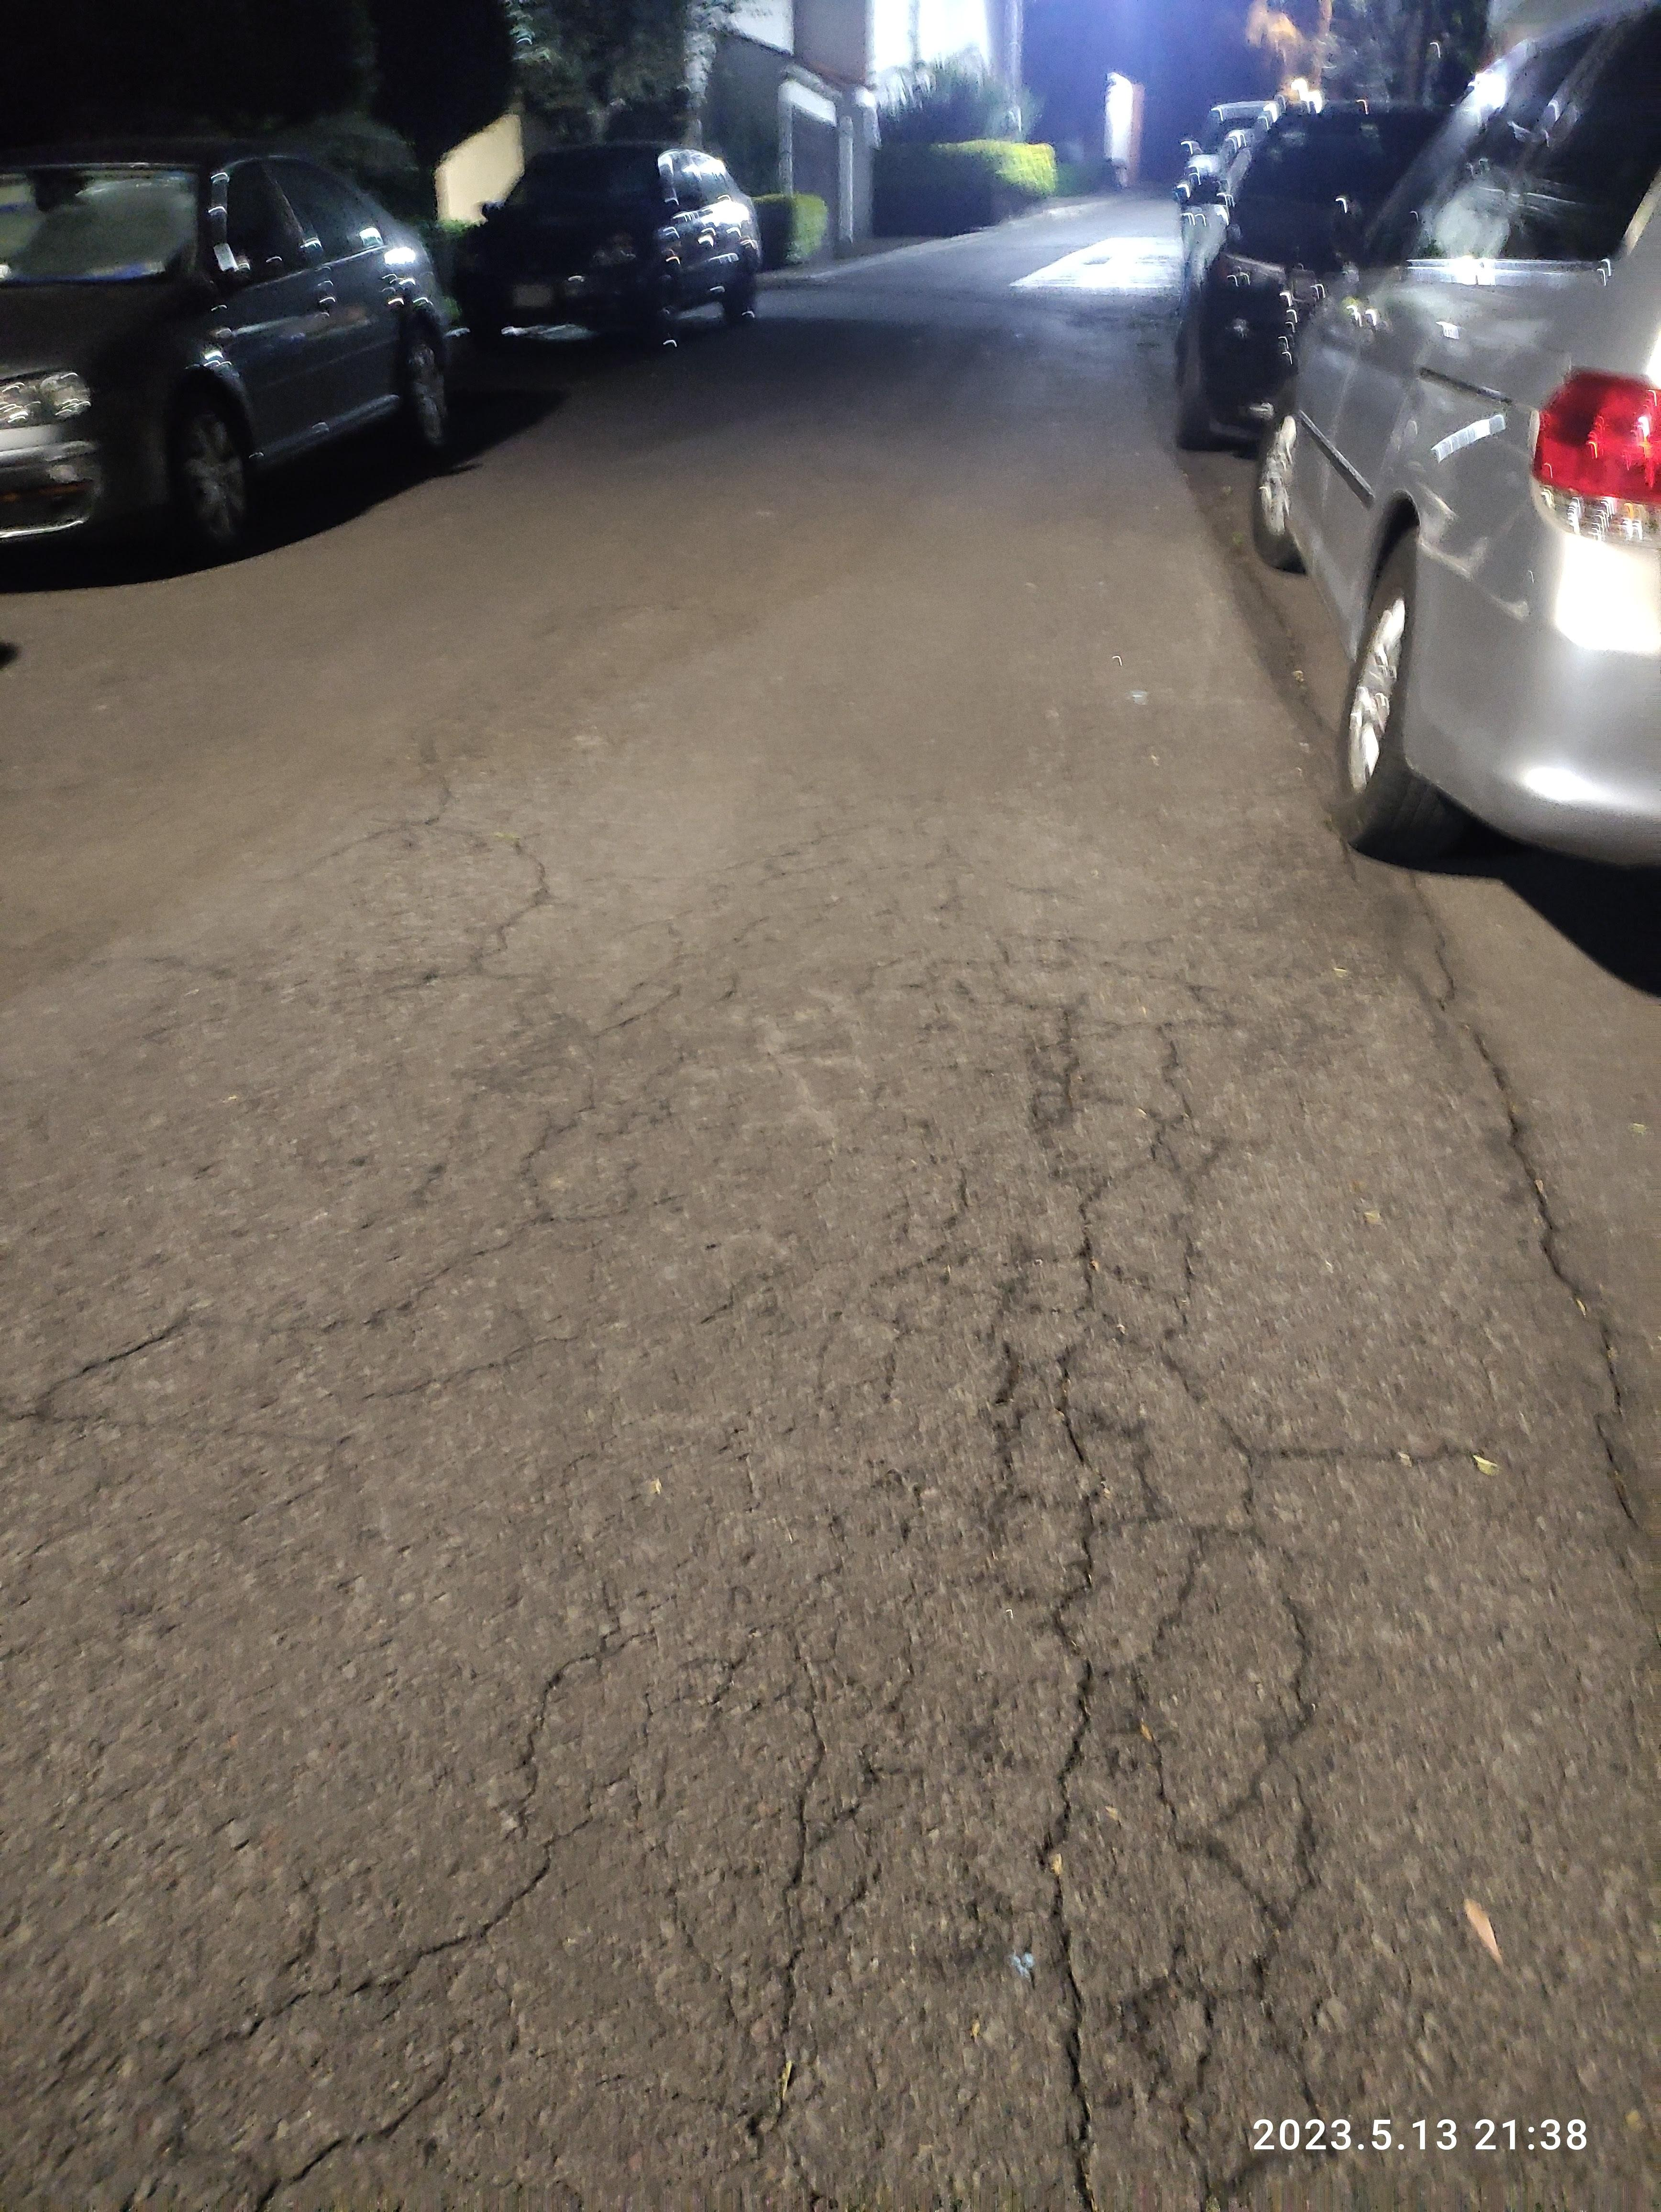alligator-crack: (1029, 895, 1314, 2212)
crack: (178, 1771, 679, 2203), (54, 1125, 548, 1518), (1436, 804, 1661, 1614), (728, 1546, 991, 2203), (818, 982, 1026, 1514), (326, 785, 579, 1021)
